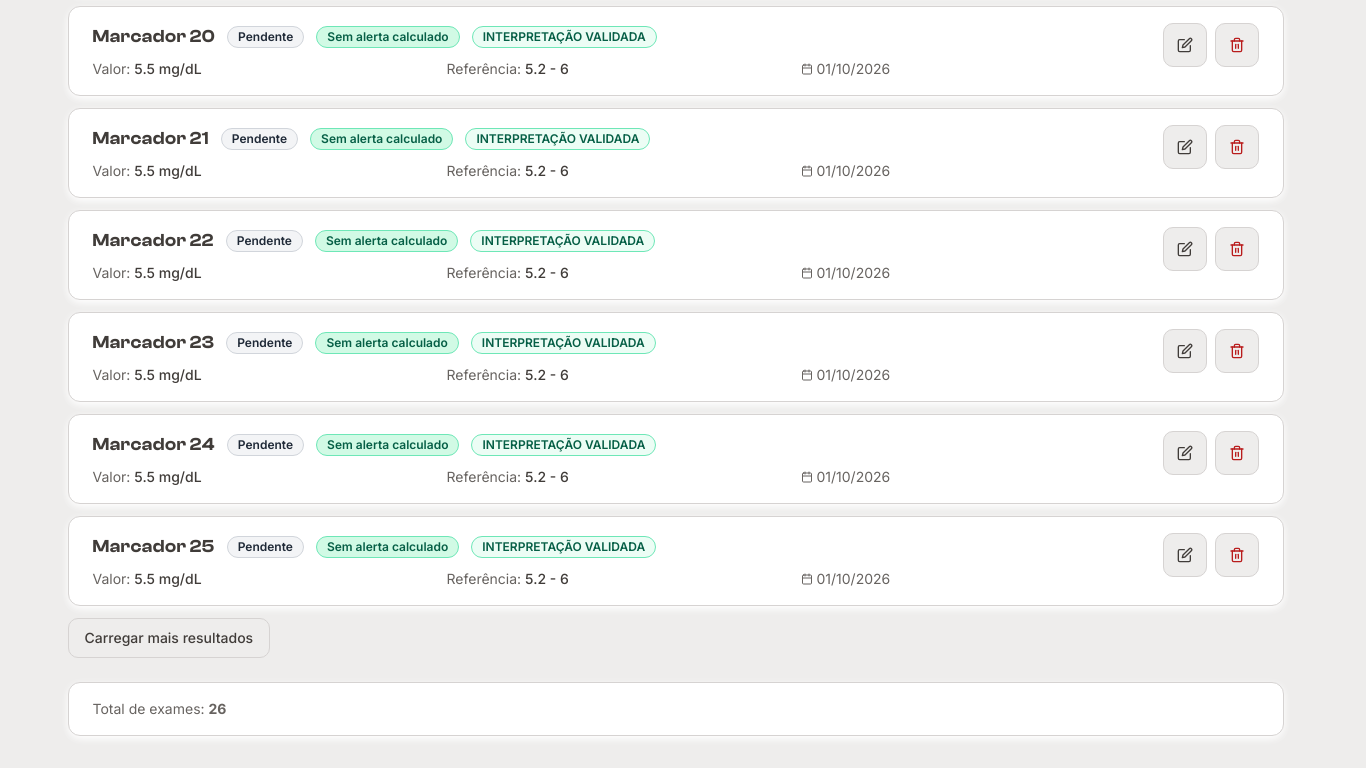
Test: laboratory page consumer contract › progressively displays results without silently dropping the final record
(page scrolled)
Expected: the text "Marcador 26" is not shown
Click the button "Carregar mais resultados": (169, 638) x1=68 y1=618 x2=270 y2=658
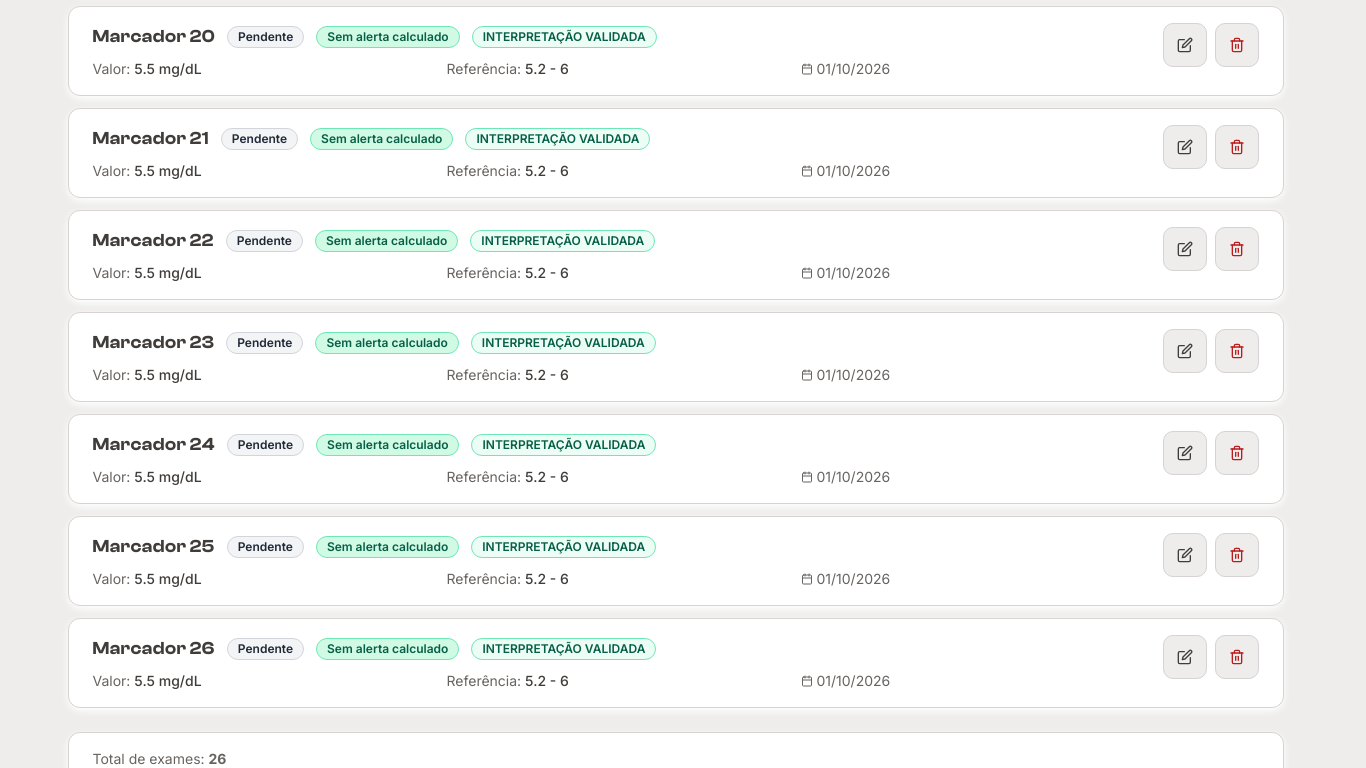
Expected: the heading "Marcador 26" is shown, x1=92 y1=635 x2=215 y2=663
Expected: the button "Carregar mais resultados" is gone
